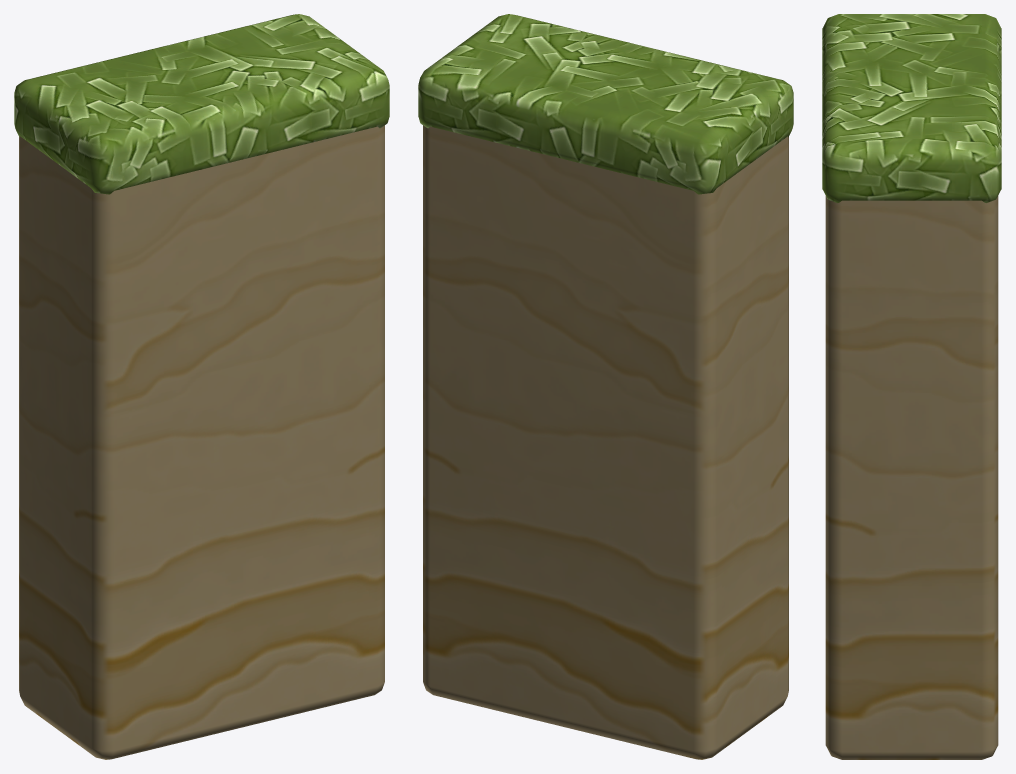
The model's file is SM_Platform_1m_Half_01_C.glb.
3 renders of one model, left to right at view 1: azimuth 30°, elevation 25°; view 2: azimuth 150°, elevation 25°; view 3: azimuth 270°, elevation 25°, orthographic.
Parts seen in each view (by area): view 1: SM_Platform_1m_Half_01_C; view 2: SM_Platform_1m_Half_01_C; view 3: SM_Platform_1m_Half_01_C.
Part boxes in pixels (x1,y1,x2,y2): SM_Platform_1m_Half_01_C: [14, 14, 389, 759]; SM_Platform_1m_Half_01_C: [418, 14, 793, 759]; SM_Platform_1m_Half_01_C: [822, 14, 1001, 759].
Bounding box in the file's own units: 1.02 × 2.05 × 0.54.
2 materials, 2 textured.
